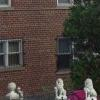Statue: (52, 75, 76, 100)
